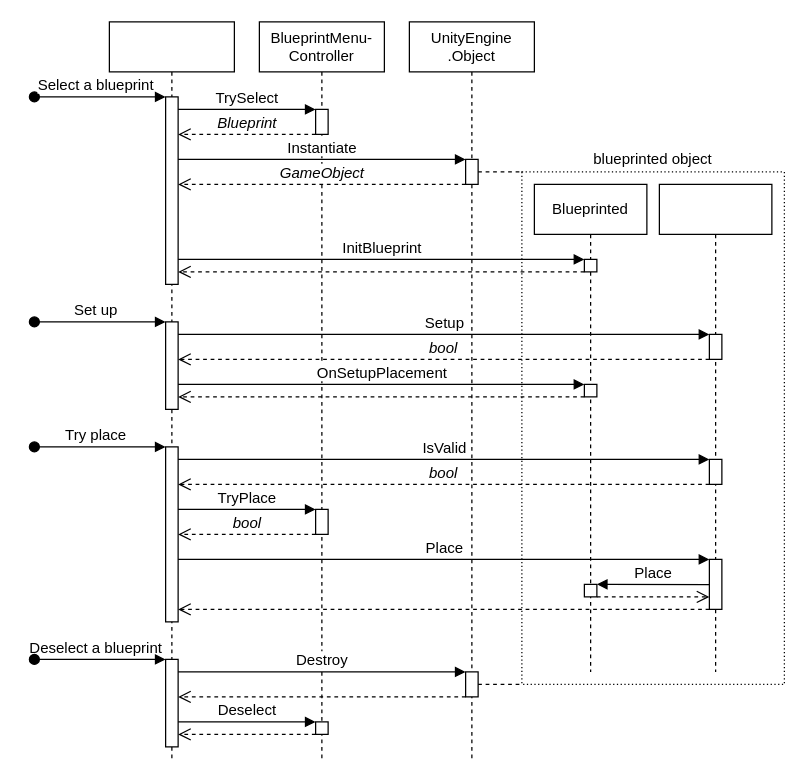
The diagram is 806 pixels wide and 781 high, and some of its shapes have lost their labels. Here are the shapes that lost their labels. From the top down, the box of each, then its label:
(108, 21, 234, 759): Selection- Controller
(658, 183, 772, 672): Placement
